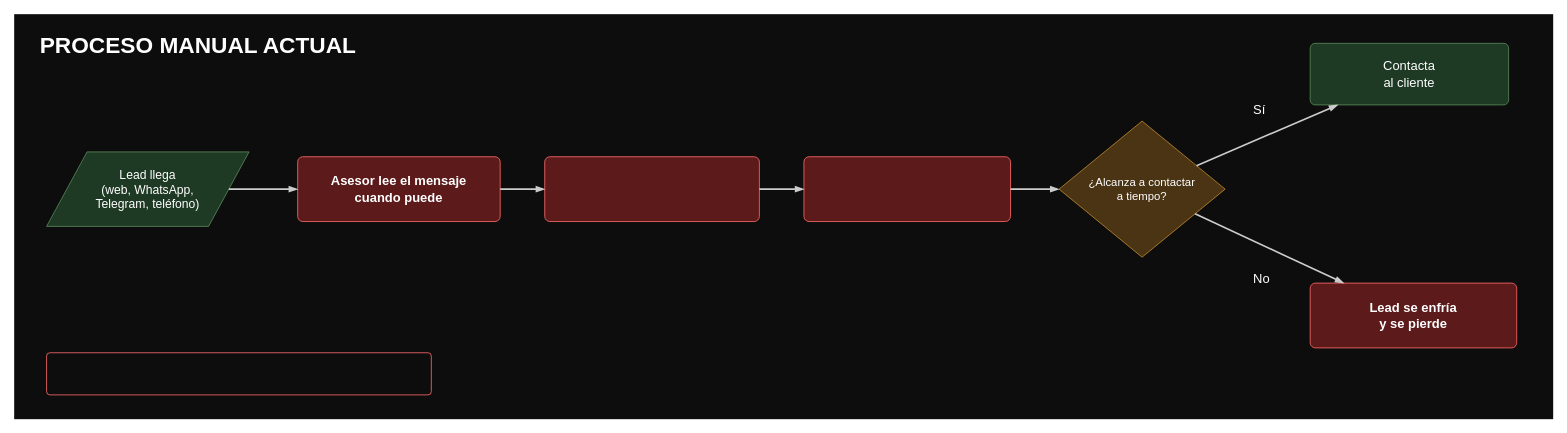
This 1567x433 diagram has some shape labels left out. Each missing label, with the centre of its shape:
"Copia los datos a mano a una hoja de cálculo" goes at pixel 651 189.
"Decide por intuición si el lead es prioritario" goes at pixel 906 189.
"Rojo = punto de dolor del proceso manual" goes at pixel 238 373.
